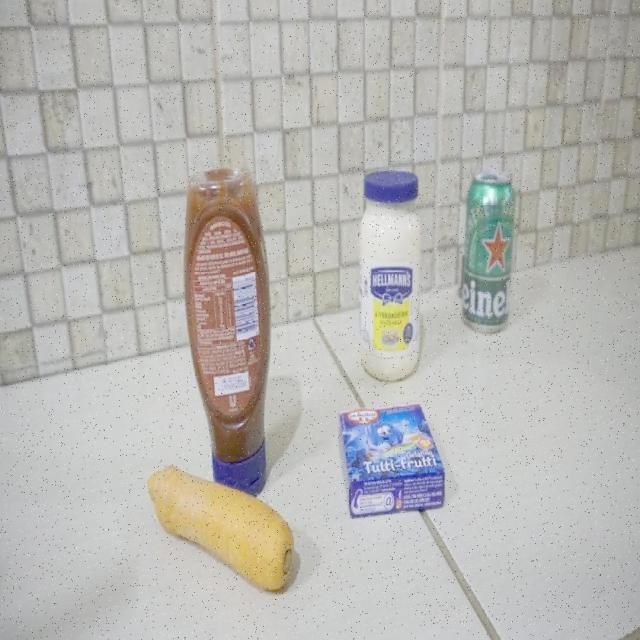BeerCan: (458, 170, 516, 338)
Carrot: (147, 465, 295, 595)
Gelatine: (336, 402, 446, 524)
Ketchup: (182, 166, 274, 502)
Mayonnaise: (359, 168, 423, 382)
